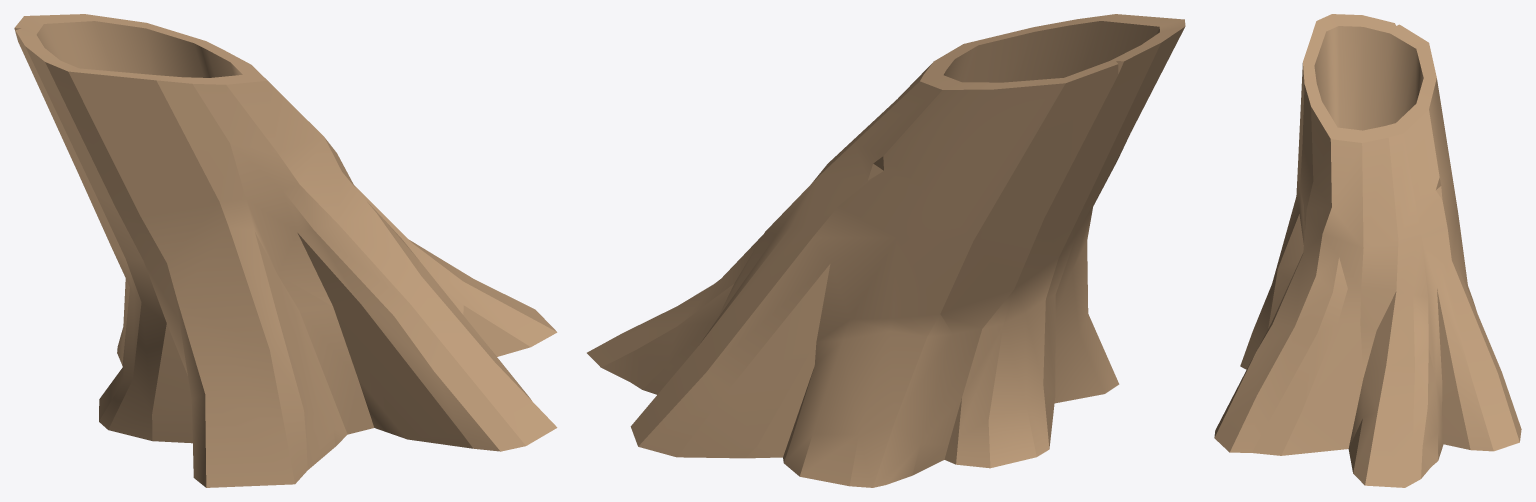
File: jungle_trunk_beach_small_C.fbx
3 views of the same model, side by side, from view 1: azimuth 30°, elevation 25°; view 2: azimuth 150°, elevation 25°; view 3: azimuth 270°, elevation 25° (orthographic). The views are drawn at different scales.
Visible parts, largest first — view 1: jungle_trunk_beach_small_C; view 2: jungle_trunk_beach_small_C; view 3: jungle_trunk_beach_small_C.
Part boxes in pixels (x1,y1,x2,y2): jungle_trunk_beach_small_C: (14,14,557,487); jungle_trunk_beach_small_C: (587,14,1185,487); jungle_trunk_beach_small_C: (1214,14,1521,487).
Size of the model in its own units: 87.54 by 64.49 by 61.85.
